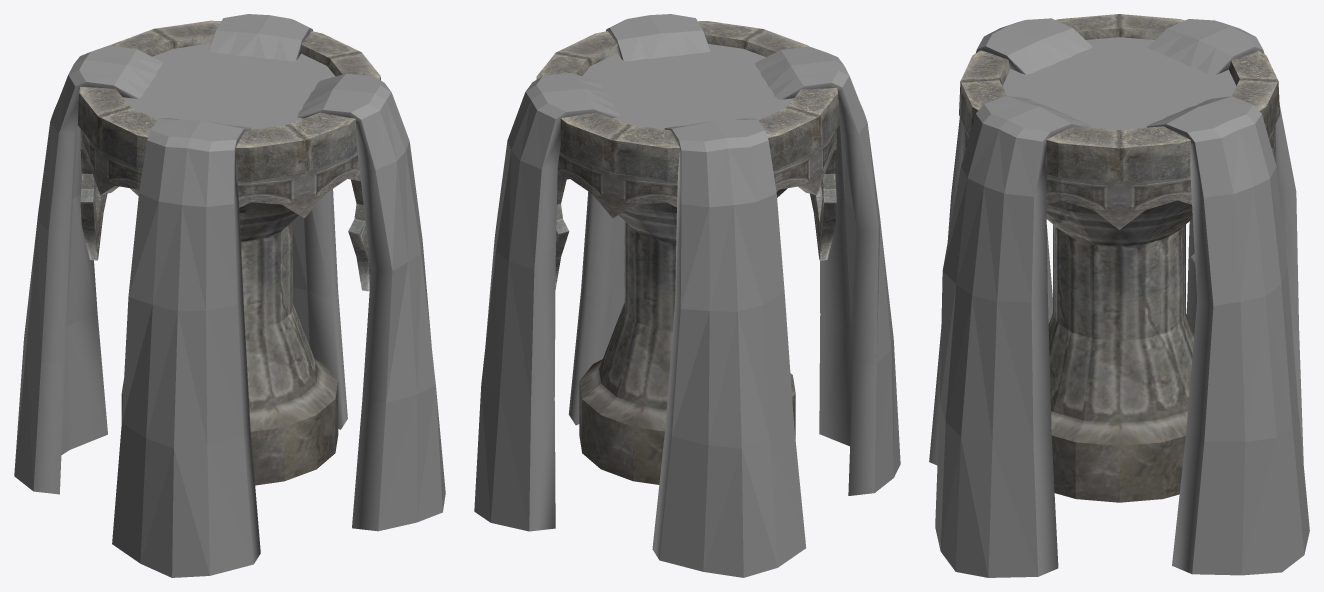
The model's file is bg_lut_lucastle_fountain01b_sm_msj.FBX.
3 renders of one model, left to right at view 1: azimuth 30°, elevation 25°; view 2: azimuth 150°, elevation 25°; view 3: azimuth 270°, elevation 25°, orthographic. The views are drawn at different scales.
Parts seen in each view (by area): view 1: bg_lut_lucastle_fountain01b_sm_msj; view 2: bg_lut_lucastle_fountain01b_sm_msj; view 3: bg_lut_lucastle_fountain01b_sm_msj.
Part boxes in pixels (box(x1,y1,x2,y2)): bg_lut_lucastle_fountain01b_sm_msj: box(14, 14, 445, 577); bg_lut_lucastle_fountain01b_sm_msj: box(474, 14, 900, 577); bg_lut_lucastle_fountain01b_sm_msj: box(929, 14, 1309, 577).
Size of the model in its own units: 145 by 181 by 145.
